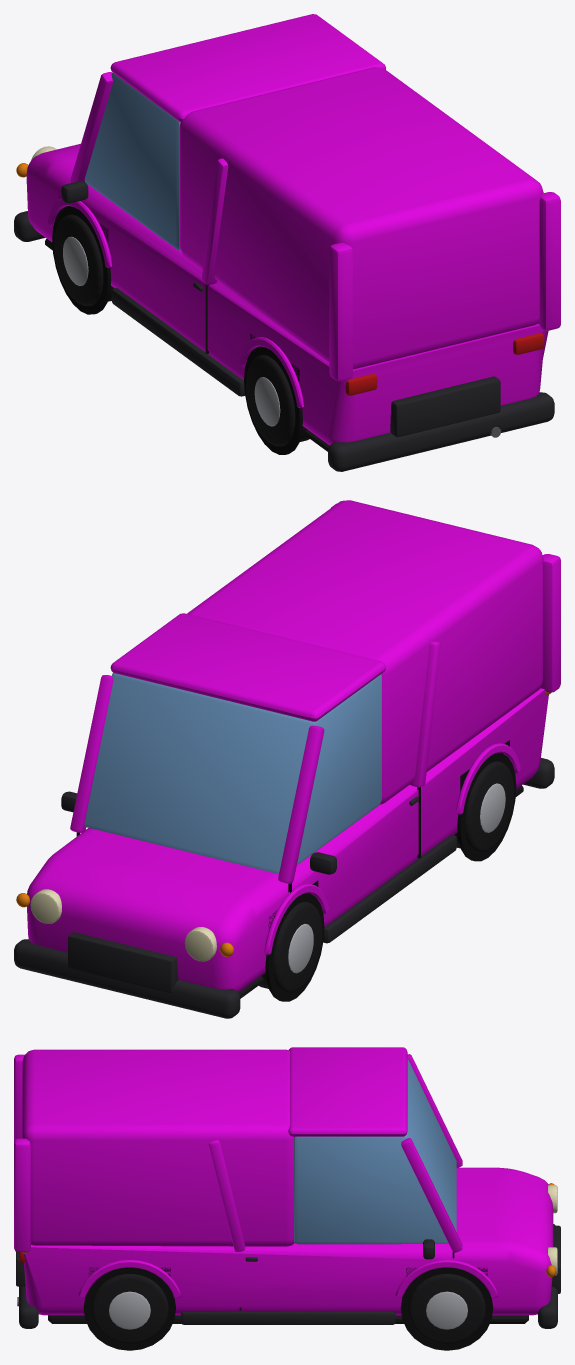
The model's file is ParcelBoxer.fbx.
3 renders of one model, top to bottom at view 1: azimuth 30°, elevation 25°; view 2: azimuth 150°, elevation 25°; view 3: azimuth 270°, elevation 25°, orthographic. The views are drawn at different scales.
Visible parts, largest first — view 1: ParcelBoxer; view 2: ParcelBoxer; view 3: ParcelBoxer.
Boxes of the visible parts, x1,y1,x2,y2 form: ParcelBoxer: (14,14,560,471); ParcelBoxer: (14,500,560,1018); ParcelBoxer: (14,1047,560,1350).
Bounding box in the file's own units: 2.54 × 2.37 × 5.35.
